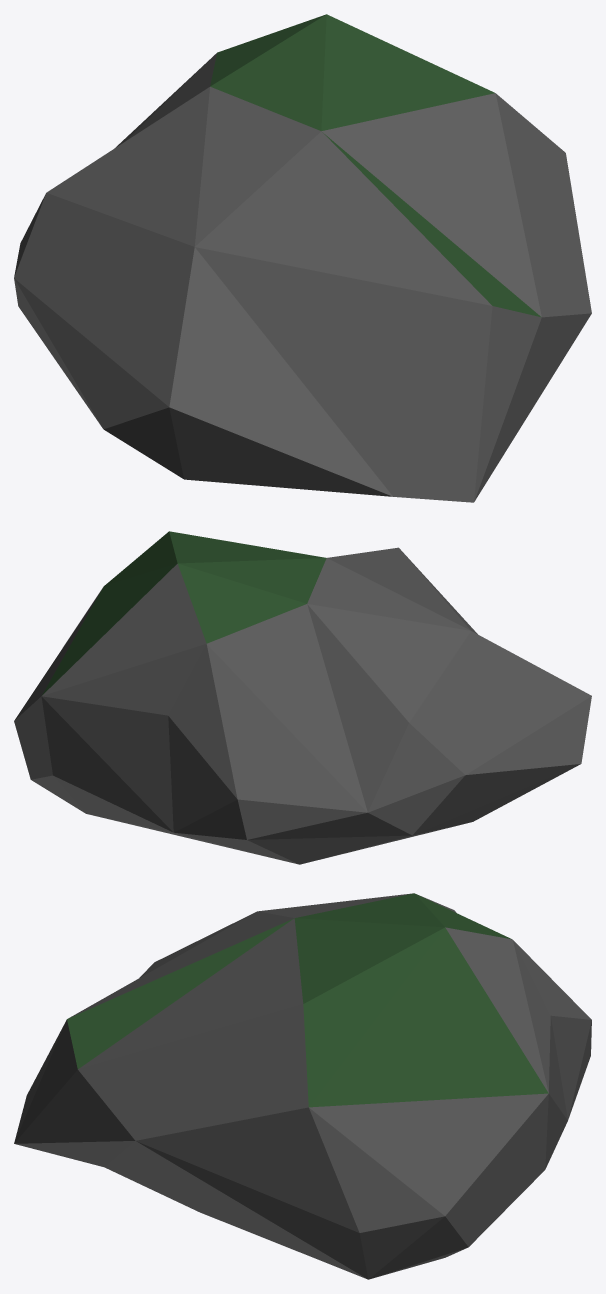
The model's file is rock2.fbx.
3 renders of one model, top to bottom at view 1: azimuth 30°, elevation 25°; view 2: azimuth 150°, elevation 25°; view 3: azimuth 270°, elevation 25°, orthographic. The views are drawn at different scales.
Visible parts, largest first — view 1: Rock2; view 2: Rock2; view 3: Rock2.
Part boxes in pixels (x1,y1,x2,y2): Rock2: [14, 14, 591, 502]; Rock2: [14, 531, 591, 864]; Rock2: [14, 893, 591, 1279].
Size of the model in its own units: 214 by 123 by 220.
